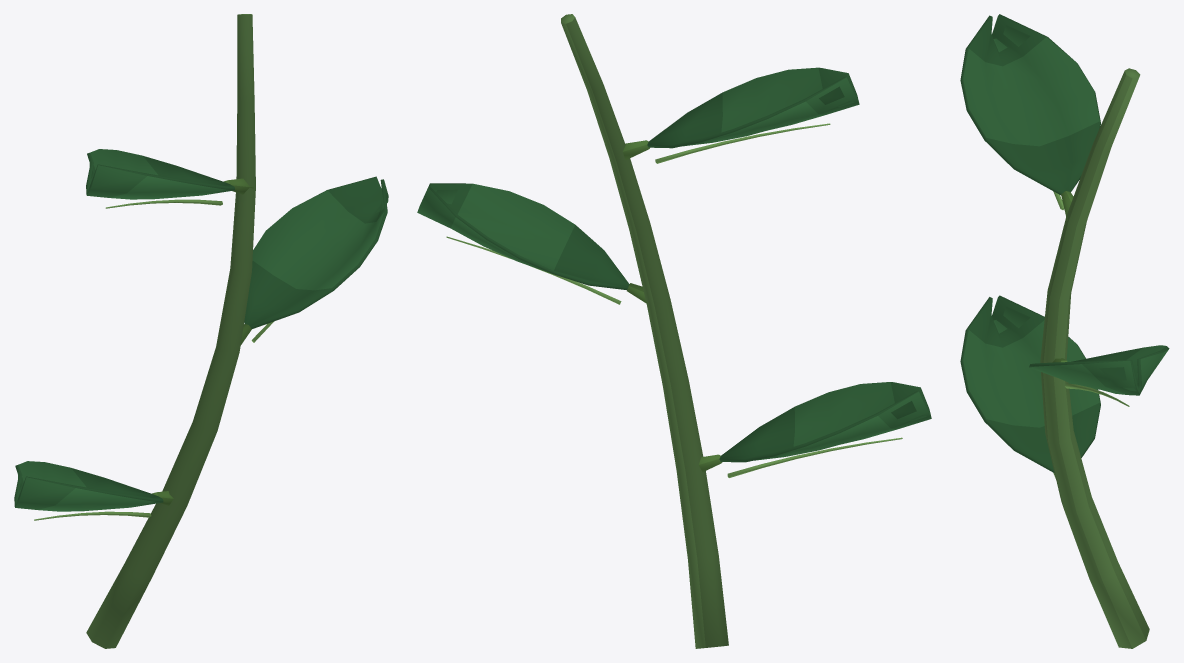
Rendered from garden-geranium-bud-stem-2.glb.
3 renders of one model, left to right at view 1: azimuth 30°, elevation 25°; view 2: azimuth 150°, elevation 25°; view 3: azimuth 270°, elevation 25°, orthographic. The views are drawn at different scales.
Visible parts, largest first — view 1: geranium-bud-stem-2; view 2: geranium-bud-stem-2; view 3: geranium-bud-stem-2.
Part boxes in pixels (x1,y1,x2,y2): geranium-bud-stem-2: (14, 14, 388, 648); geranium-bud-stem-2: (417, 14, 931, 648); geranium-bud-stem-2: (960, 14, 1169, 648).
Size of the model in its own units: 0.209 by 0.2702 by 0.079.
